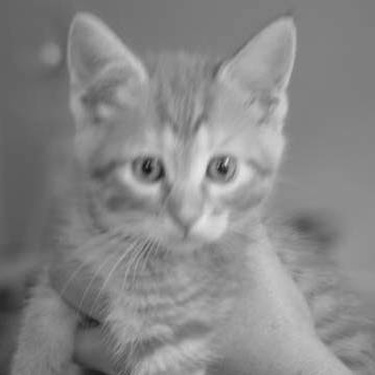cat: (11, 11, 355, 373)
